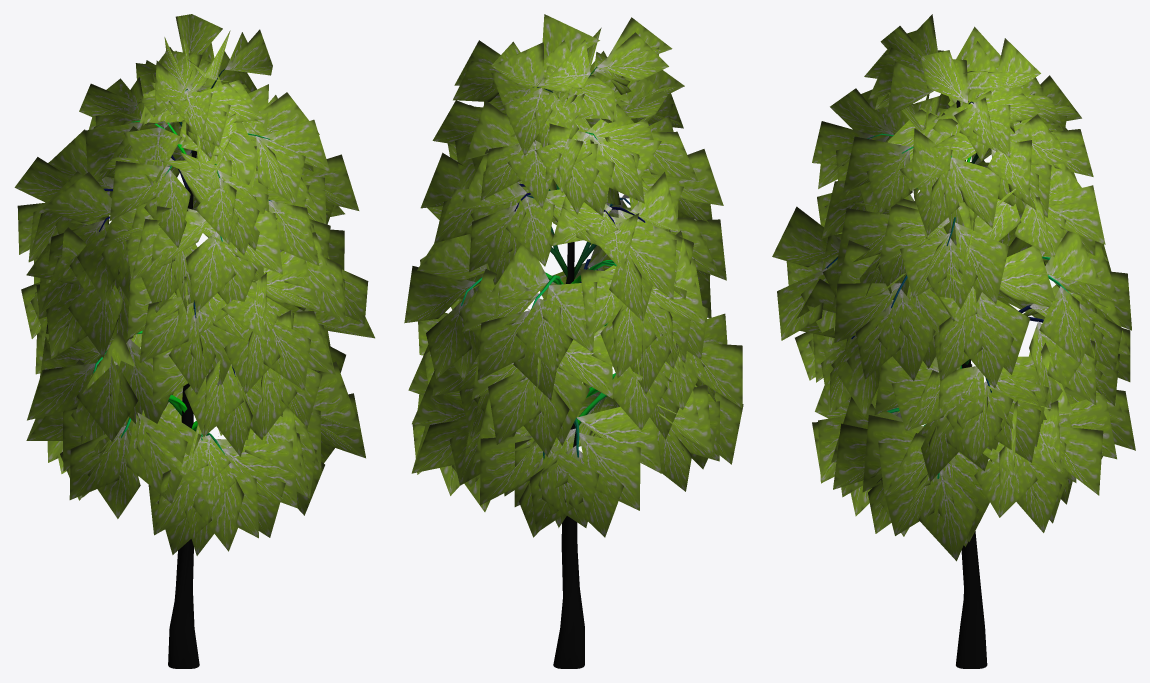
The model's file is BirchTree06.fbx.
3 renders of one model, left to right at view 1: azimuth 30°, elevation 25°; view 2: azimuth 150°, elevation 25°; view 3: azimuth 270°, elevation 25°, orthographic.
Parts seen in each view (by area): view 1: Tree_1, Tree_0; view 2: Tree_1, Tree_0; view 3: Tree_1, Tree_0.
Boxes of the visible parts, x1,y1,x2,y2 form: Tree_1: (14, 14, 374, 555); Tree_0: (93, 68, 271, 668); Tree_1: (404, 14, 743, 537); Tree_0: (461, 67, 645, 668); Tree_1: (772, 14, 1135, 561); Tree_0: (825, 100, 1069, 668).
Size of the model in its own units: 89.55 by 167 by 87.41.
